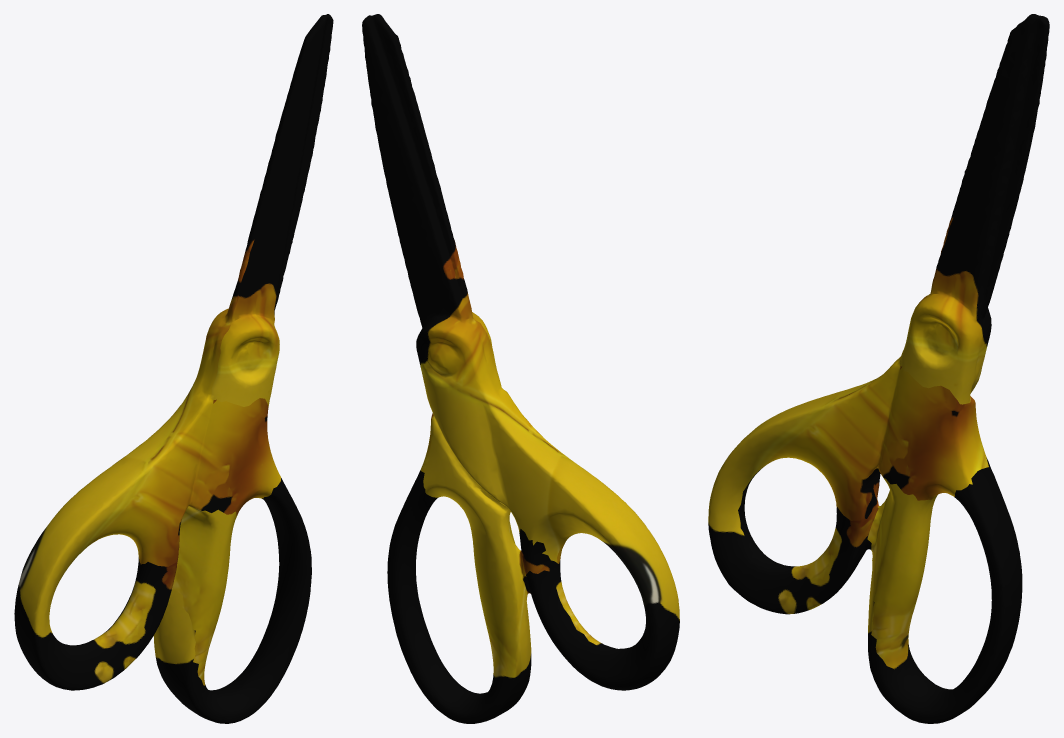
3 views of the same model, side by side, from view 1: azimuth 30°, elevation 25°; view 2: azimuth 150°, elevation 25°; view 3: azimuth 330°, elevation 25° (orthographic). The views are drawn at different scales.
Size of the model in its own units: 0.0961 by 0.2015 by 0.0157.
